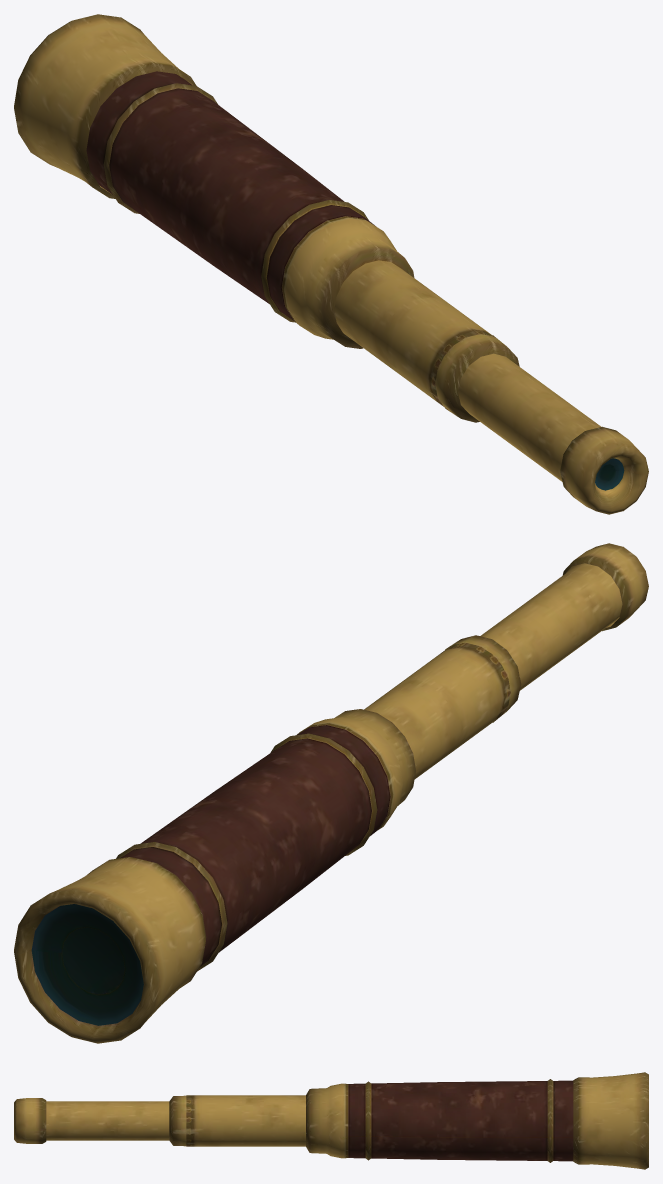
The model's file is telescope.glb.
The picture shows the model from 3 angles, top to bottom: view 1: azimuth 30°, elevation 25°; view 2: azimuth 150°, elevation 25°; view 3: azimuth 270°, elevation 25°; orthographic projection. The views are drawn at different scales.
Visible parts, largest first — view 1: Telescope, TelescopeDraw2, TelescopeDraw1; view 2: Telescope, TelescopeDraw1, TelescopeDraw2; view 3: Telescope, TelescopeDraw1, TelescopeDraw2.
Boxes of the visible parts, x1,y1,x2,y2 form: Telescope: (14,14,414,348); TelescopeDraw2: (458,353,648,514); TelescopeDraw1: (334,260,519,422); Telescope: (14,709,415,1043); TelescopeDraw1: (364,635,521,778); TelescopeDraw2: (480,543,648,690); Telescope: (306,1072,648,1169); TelescopeDraw1: (169,1095,305,1146); TelescopeDraw2: (14,1098,169,1143).
Bounding box in the file's own units: 0.0516 × 0.0508 × 0.335.
Materials: 1 (1 with a texture image).
